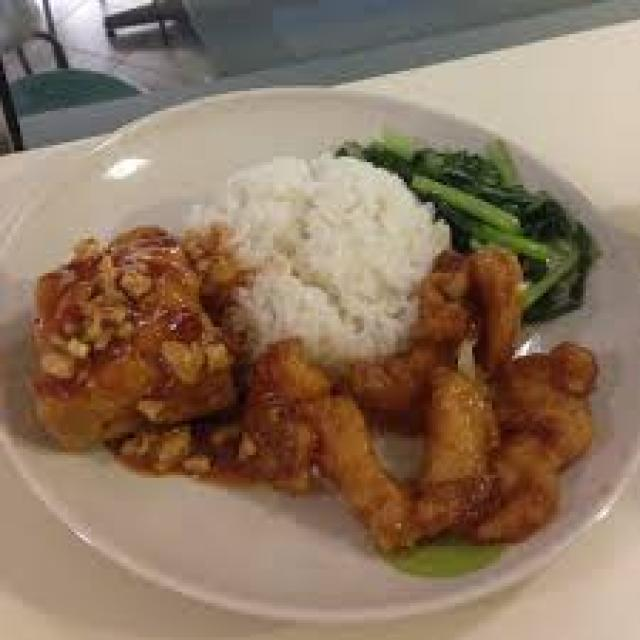Fish: (210, 250, 594, 549)
Green veg: (336, 137, 592, 319)
Rice: (191, 156, 447, 361)
Tofu: (34, 228, 233, 449)
